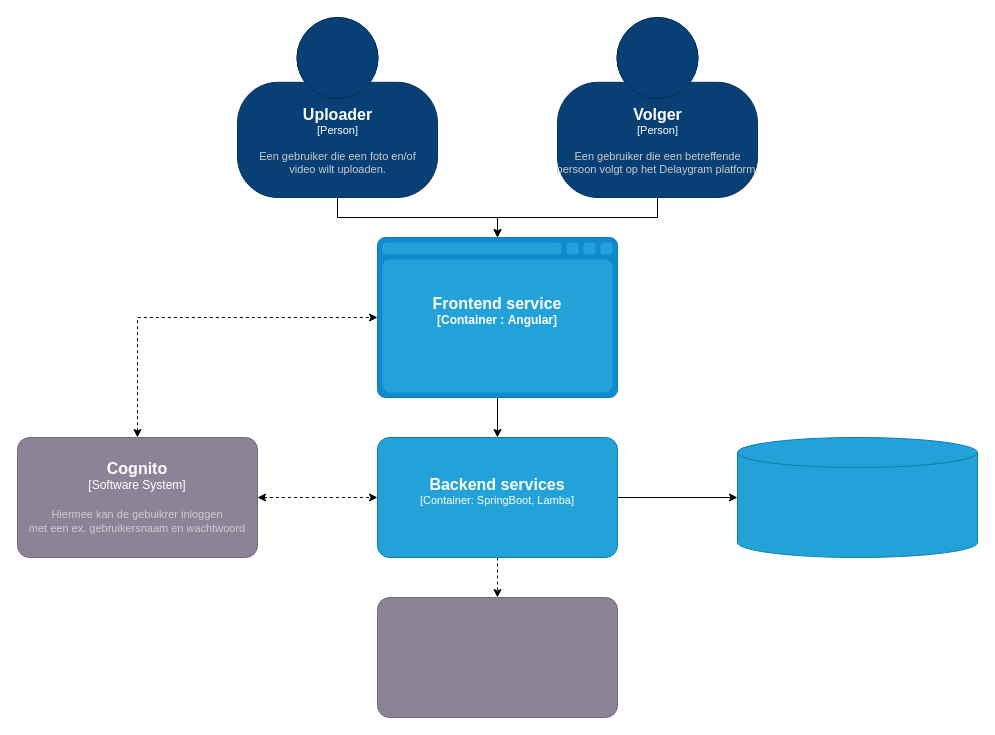
Image size: 995x735. Some labels were removed from this diagram. Each missing label, with the centre of its shape:
Datastores [Container: NoSQL]: the point at 857,497
SNS [Software System] Stuurt een verificatie email: the point at 497,657
